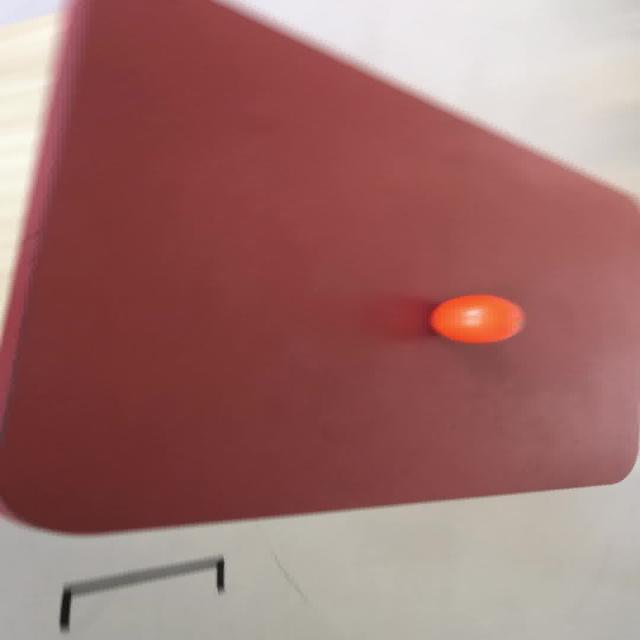orange: (1, 0, 638, 537), (427, 294, 524, 344)
